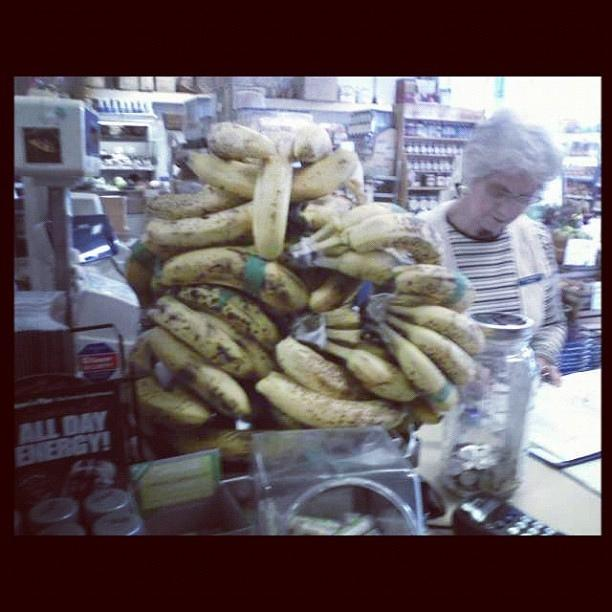banana: (159, 247, 310, 322), (142, 327, 252, 424), (175, 150, 357, 204), (153, 296, 256, 382), (254, 372, 409, 429), (164, 284, 282, 352), (380, 322, 460, 411), (275, 336, 383, 401), (311, 214, 446, 265), (387, 314, 476, 388), (324, 340, 421, 402), (192, 308, 274, 376), (144, 200, 253, 248), (374, 264, 478, 314), (388, 305, 487, 355), (135, 376, 218, 433), (251, 152, 293, 260), (157, 430, 302, 458), (145, 189, 252, 220), (207, 122, 277, 158), (308, 270, 366, 312), (308, 251, 396, 276), (328, 339, 399, 367), (294, 122, 333, 162), (341, 204, 397, 229), (326, 309, 360, 329), (260, 130, 288, 146)
